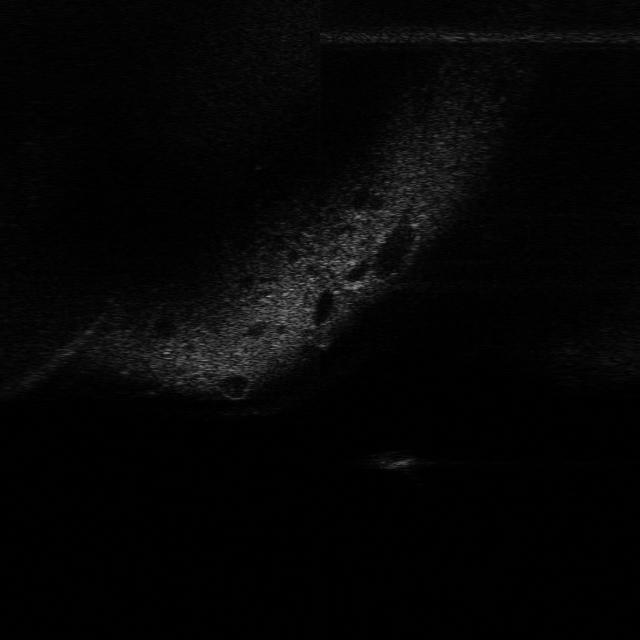ball: (309, 324, 337, 350)
cube: (362, 446, 427, 473)
